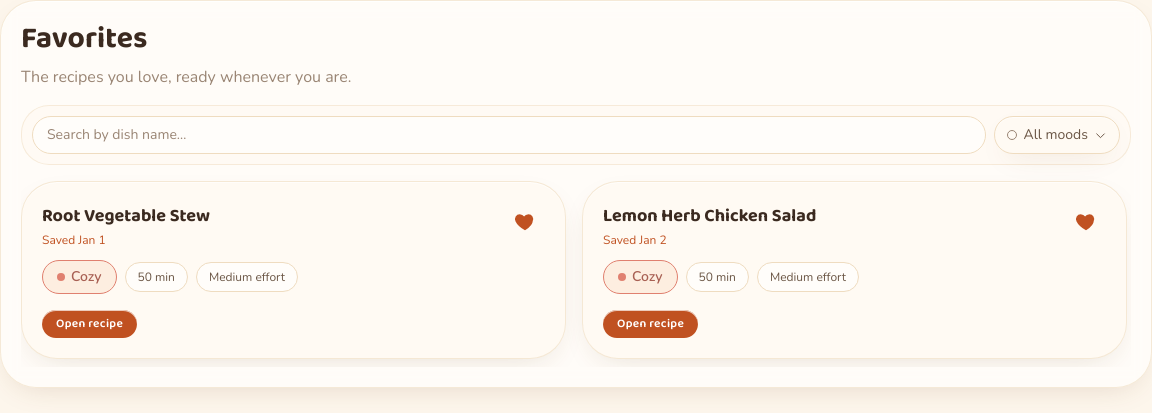
Test: FavoritesScreen › filters by search text, distinct from the true empty state
Type "salad" into the search field named "search favorites" at {"x": 509, "y": 135}, box [32, 116, 986, 154]
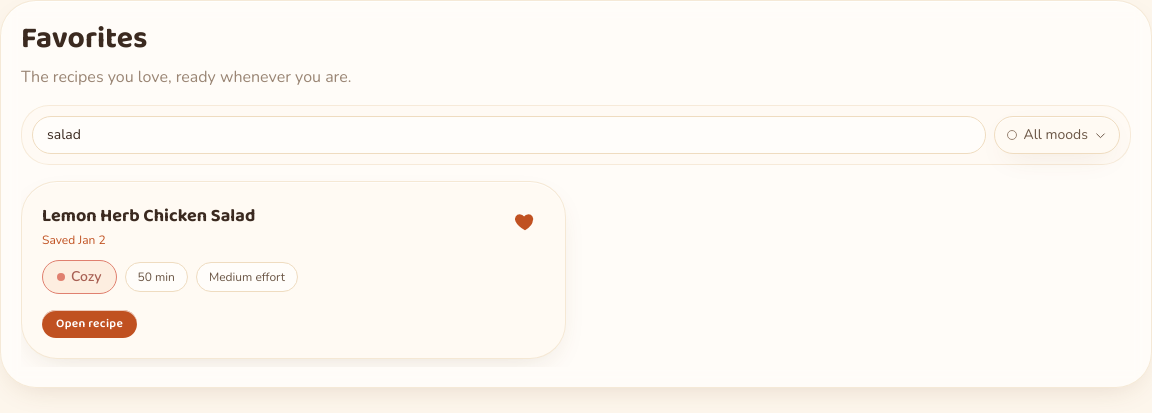
Expected: the heading "Lemon Herb Chicken Salad" is shown, [42, 202, 255, 230]
Now the heading "Root Vegetable Stew" is gone
